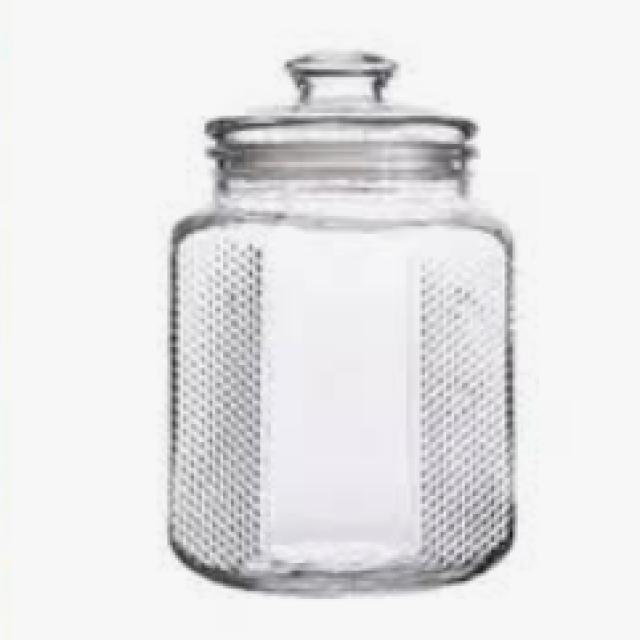ToplesKaca: (162, 44, 518, 596)
